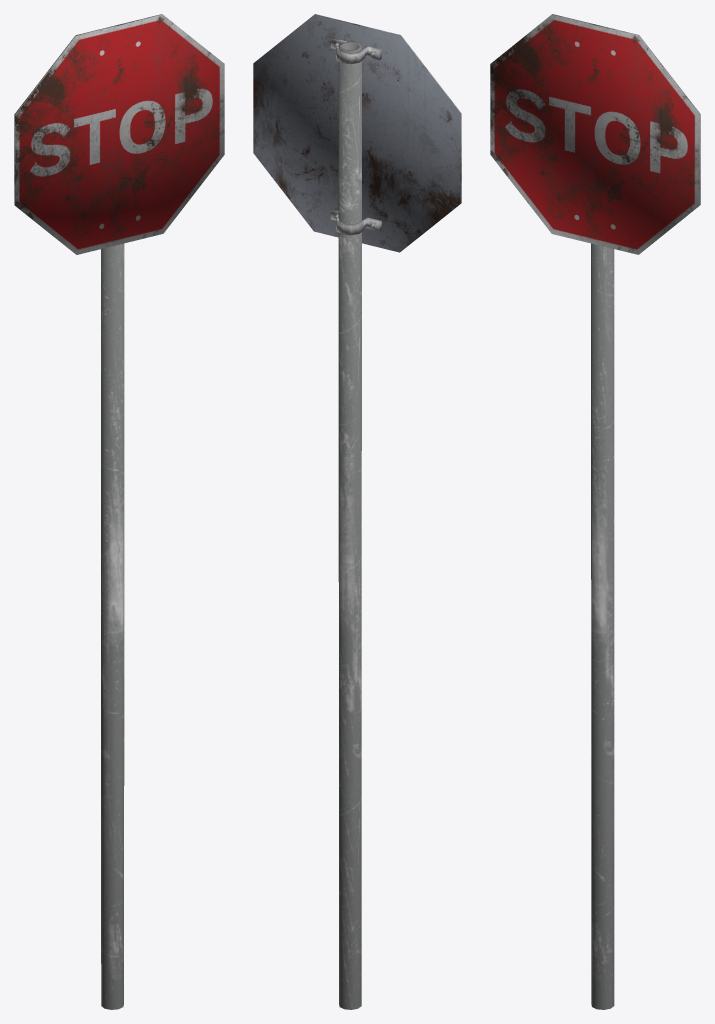
Rendered from street_stop.fbx.
3 views of the same model, side by side, from view 1: azimuth 30°, elevation 25°; view 2: azimuth 150°, elevation 25°; view 3: azimuth 330°, elevation 25° (orthographic).
Visible parts, largest first — view 1: street_stop; view 2: street_stop; view 3: street_stop.
Boxes of the visible parts, <box> form: street_stop: <box>14,14,224,1009</box>; street_stop: <box>253,14,461,1009</box>; street_stop: <box>490,14,700,1009</box>.
Bounding box in the file's own units: 1.34 × 6.01 × 0.1676.
4 materials, 4 textured.
